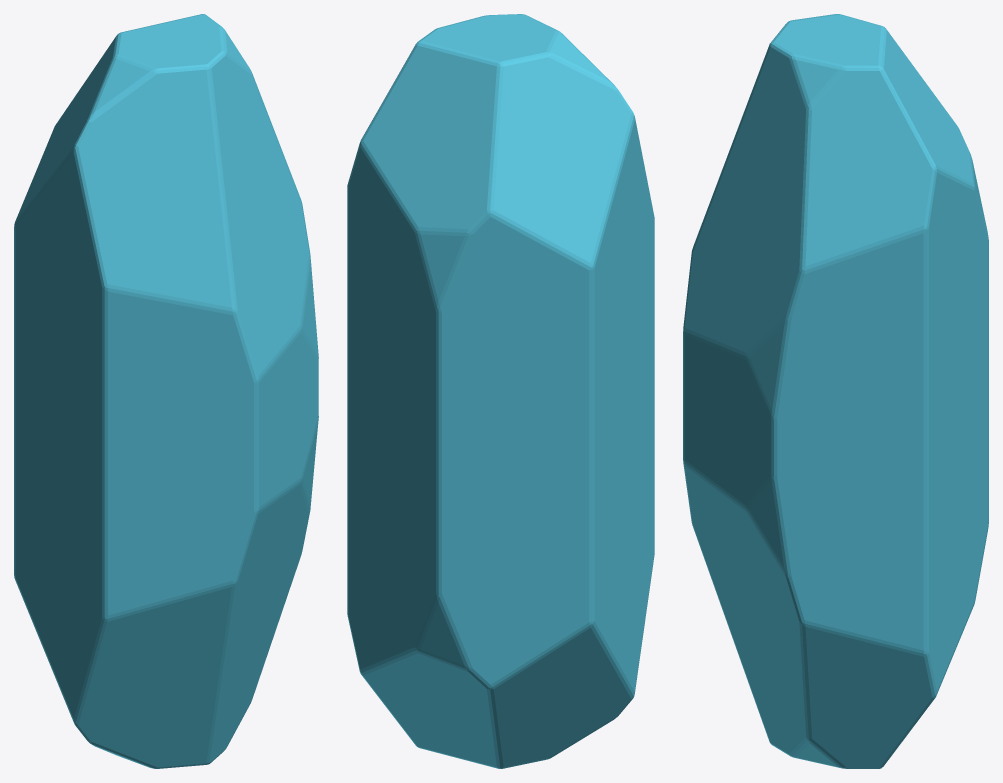
The model's file is cristal-large.fbx.
3 renders of one model, left to right at view 1: azimuth 30°, elevation 25°; view 2: azimuth 150°, elevation 25°; view 3: azimuth 270°, elevation 25°, orthographic.
Visible parts, largest first — view 1: Large Crystal; view 2: Large Crystal; view 3: Large Crystal.
Part boxes in pixels (box(x1,y1,x2,y2)): Large Crystal: box(14, 14, 318, 768); Large Crystal: box(347, 14, 654, 768); Large Crystal: box(683, 14, 988, 768).
Bounding box in the file's own units: 125 × 344 × 136.
